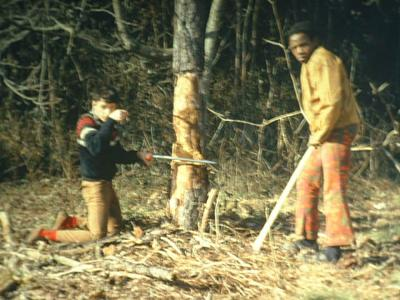person: (26, 85, 154, 245)
